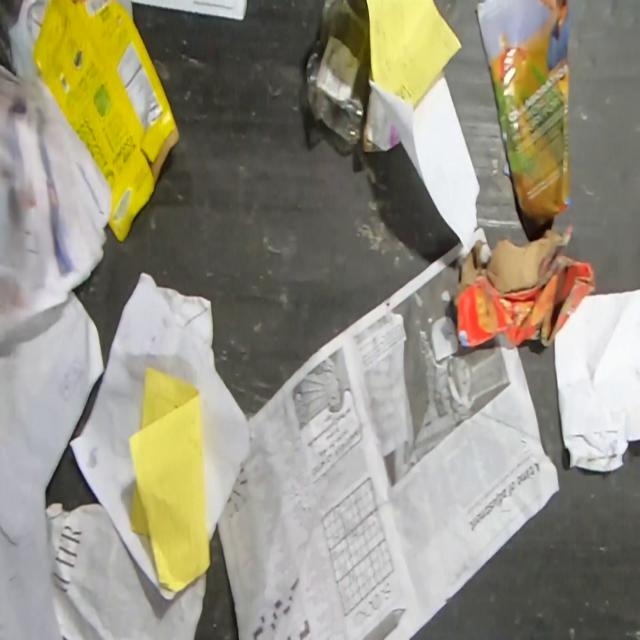cardboard: (29, 0, 182, 246), (451, 220, 598, 350), (361, 89, 402, 153)
rigid_plastic: (304, 0, 371, 147)
